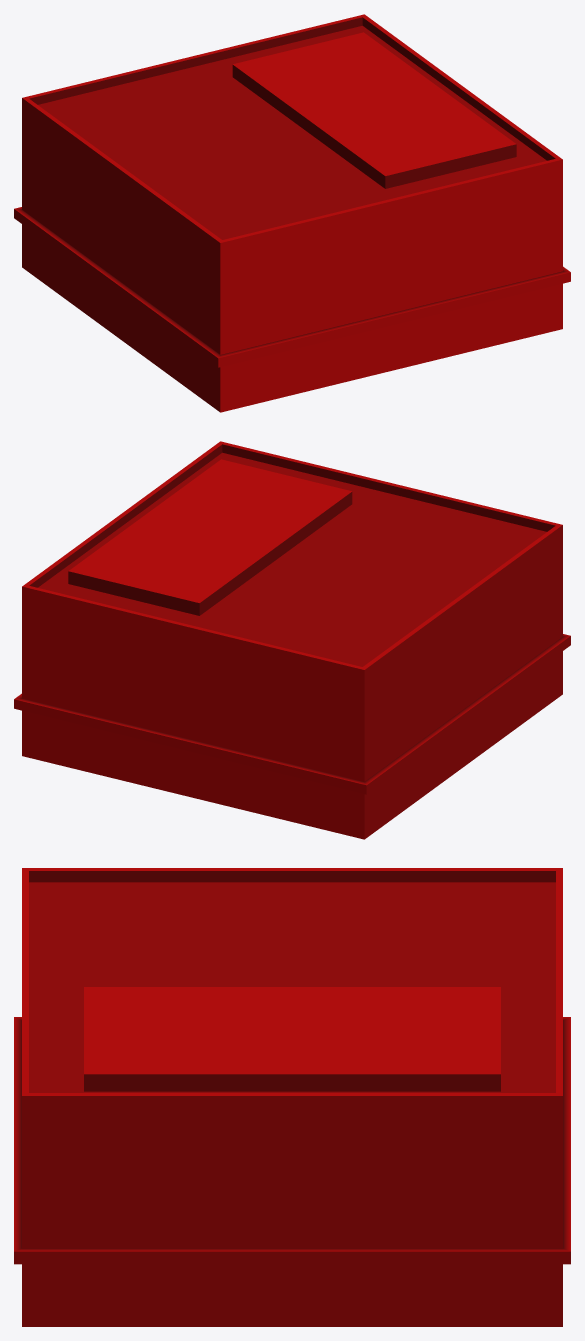
File: buildings-industrial-smallindustrialstructure_v4.fbx
3 renders of one model, top to bottom at view 1: azimuth 30°, elevation 25°; view 2: azimuth 150°, elevation 25°; view 3: azimuth 270°, elevation 25°, orthographic. The views are drawn at different scales.
Visible parts, largest first — view 1: SmallIndustrialStructure_v4; view 2: SmallIndustrialStructure_v4; view 3: SmallIndustrialStructure_v4.
Boxes of the visible parts, x1,y1,x2,y2 form: SmallIndustrialStructure_v4: (14,14,570,412); SmallIndustrialStructure_v4: (14,441,570,839); SmallIndustrialStructure_v4: (14,868,570,1326).
Size of the model in its own units: 11.11 by 5.23 by 11.14.
